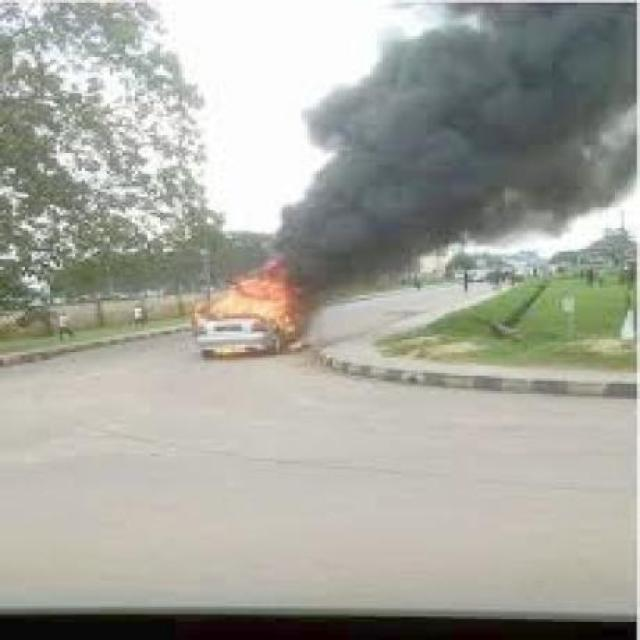Fire: (200, 263, 290, 343)
Smoke: (281, 7, 640, 301)
